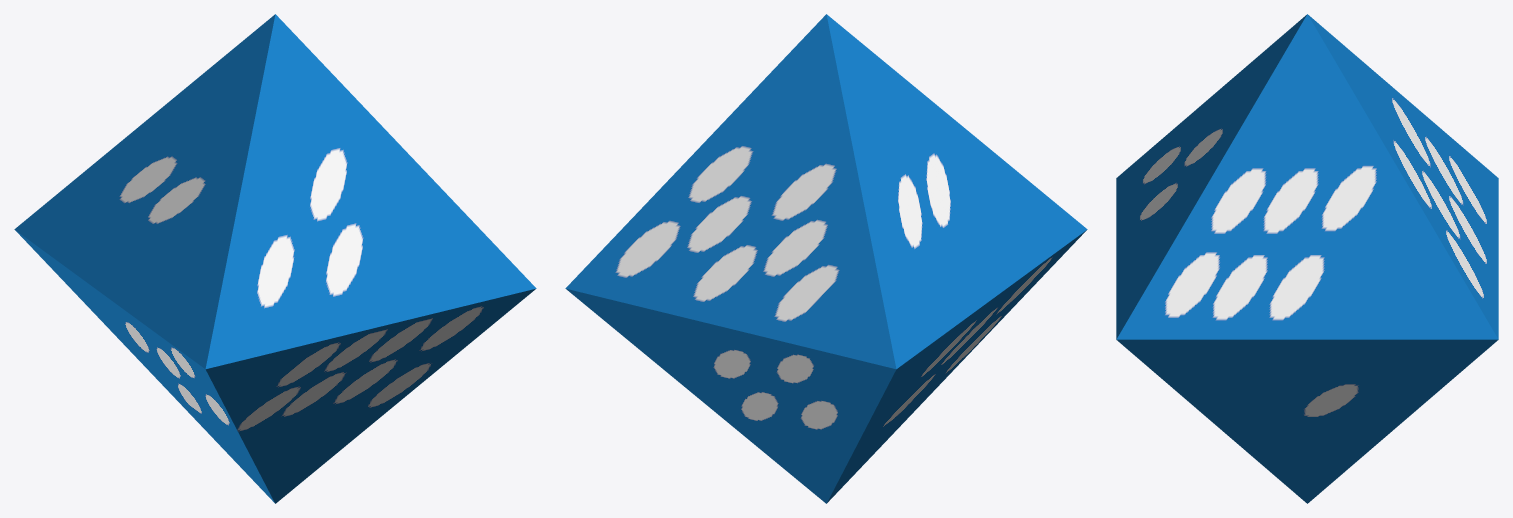
The model's file is d8-blue.glb.
The picture shows the model from 3 angles, left to right: view 1: azimuth 30°, elevation 25°; view 2: azimuth 150°, elevation 25°; view 3: azimuth 270°, elevation 25°; orthographic projection.
Parts seen in each view (by area): view 1: Cube; view 2: Cube; view 3: Cube.
Part boxes in pixels (x1=…): Cube: x1=14, y1=14, x2=536, y2=503; Cube: x1=565, y1=14, x2=1087, y2=503; Cube: x1=1116, y1=14, x2=1498, y2=503.
Size of the model in its own units: 2 by 2.83 by 2.
1 material, 1 textured.
